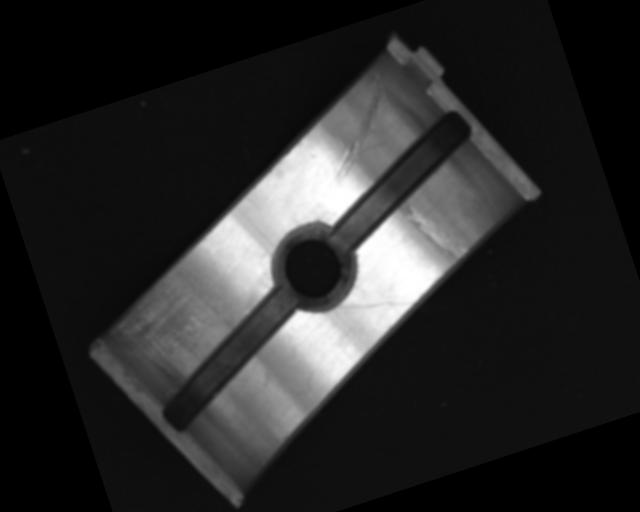gap: (136, 284, 322, 434), (309, 109, 494, 252)
hole: (259, 213, 369, 324)
nick: (307, 68, 408, 181), (400, 189, 471, 273), (336, 282, 416, 328)
scratch: (92, 251, 249, 396)
